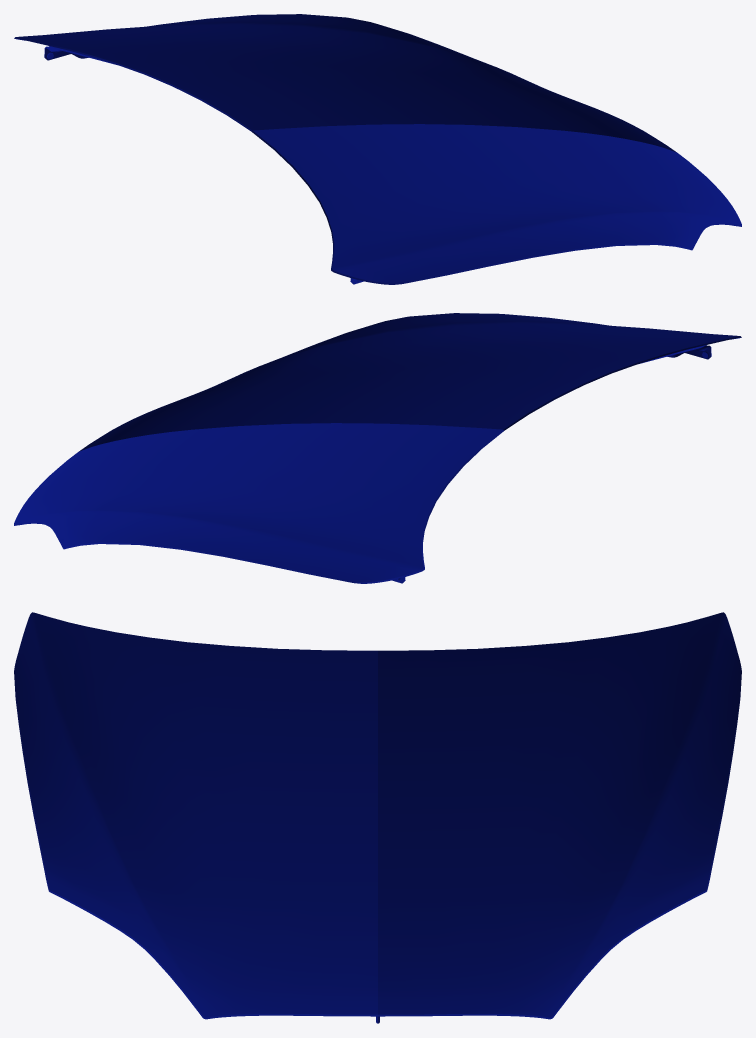
The model's file is Hood.obj.
3 renders of one model, top to bottom at view 1: azimuth 30°, elevation 25°; view 2: azimuth 150°, elevation 25°; view 3: azimuth 270°, elevation 25°, orthographic. The views are drawn at different scales.
Visible parts, largest first — view 1: Hood; view 2: Hood; view 3: Hood.
Part boxes in pixels (x1,y1,x2,y2): Hood: (14, 14, 741, 284); Hood: (14, 313, 741, 583); Hood: (14, 612, 741, 1023).
Size of the model in its own units: 1.42 by 0.401 by 1.63.
